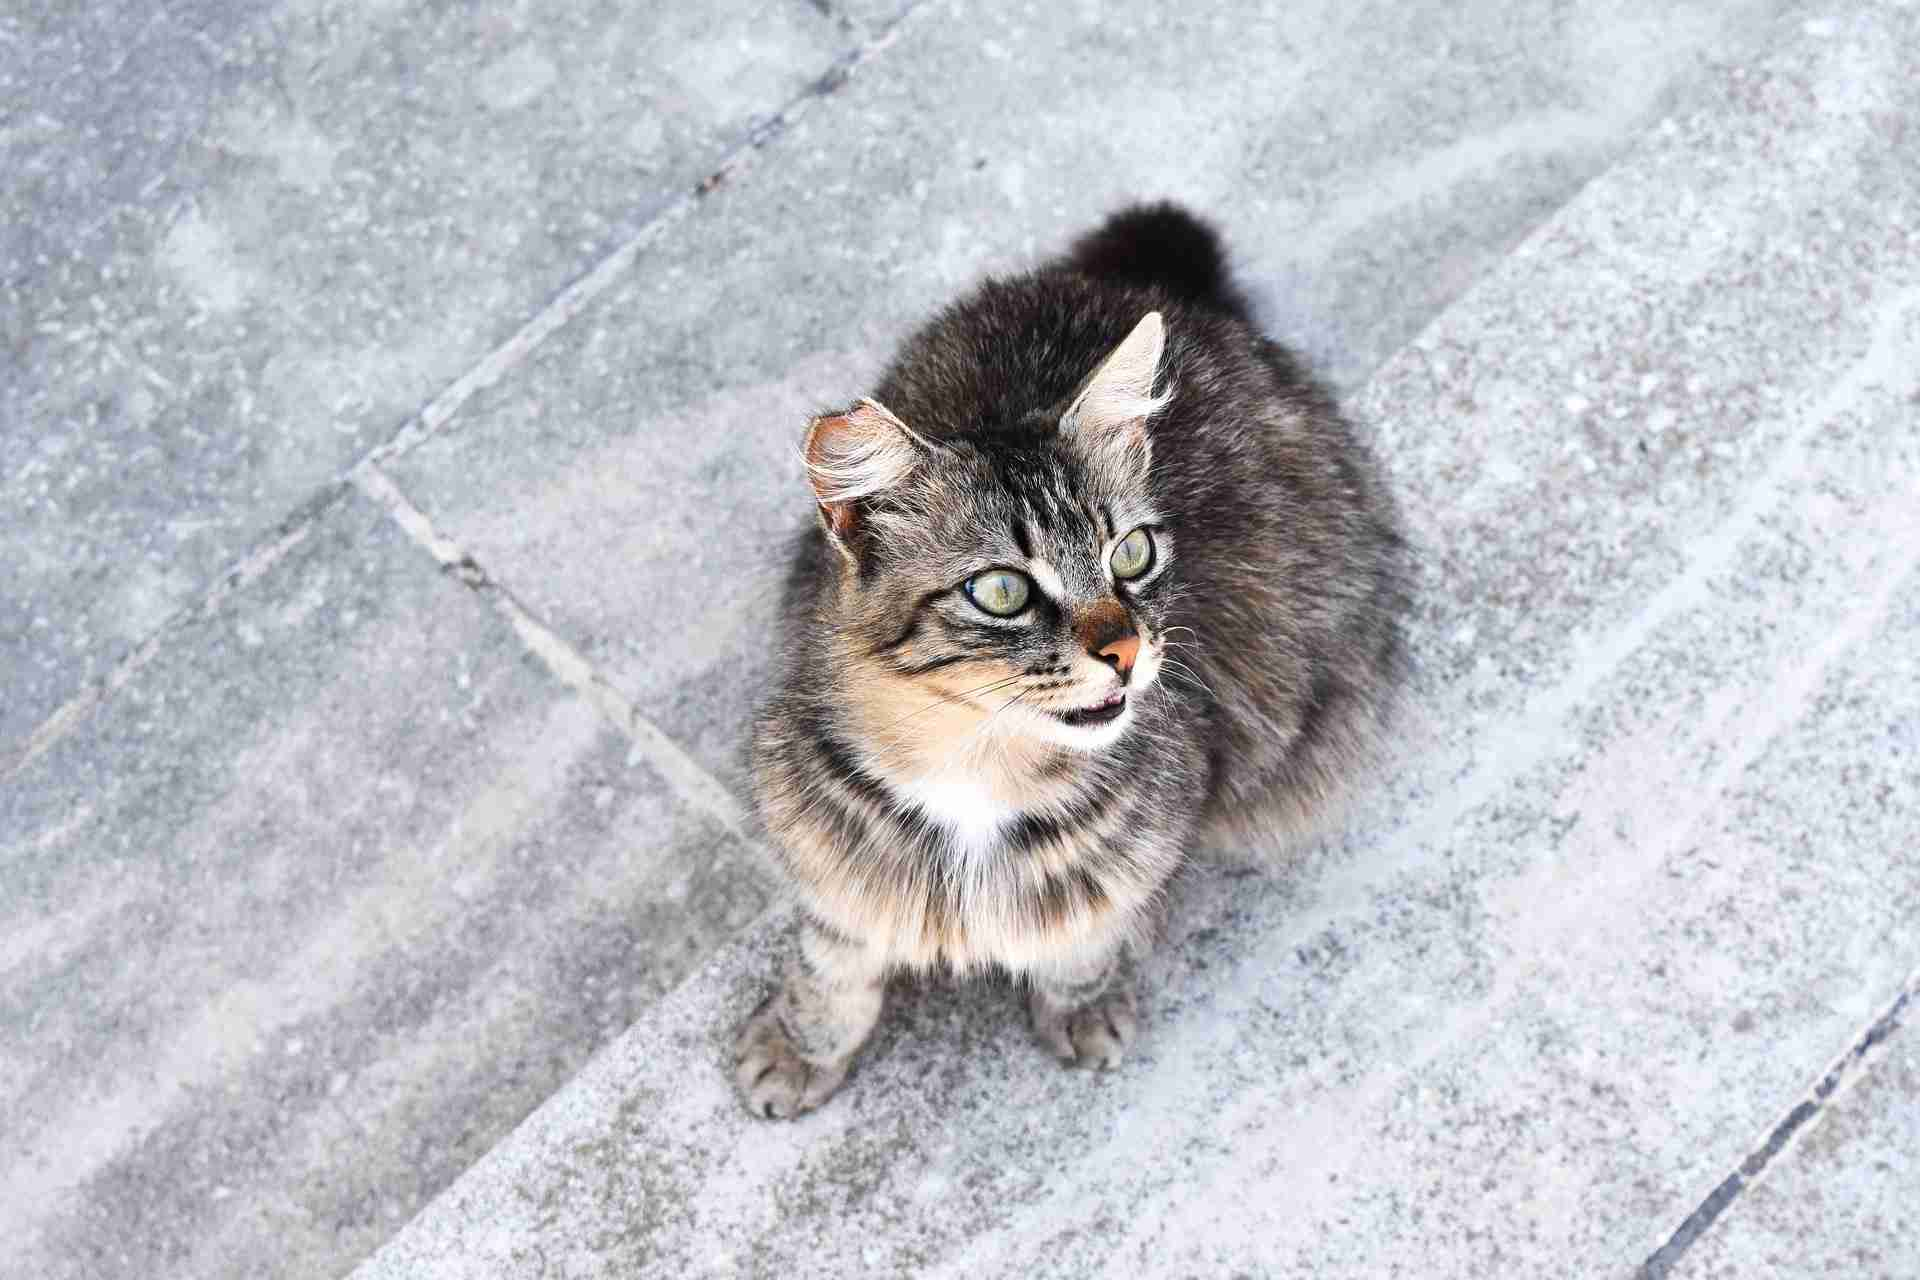Cat: (667, 123, 1457, 1133)
